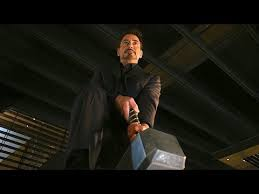THOR Hammer: (118, 89, 188, 171), (139, 111, 156, 136)
